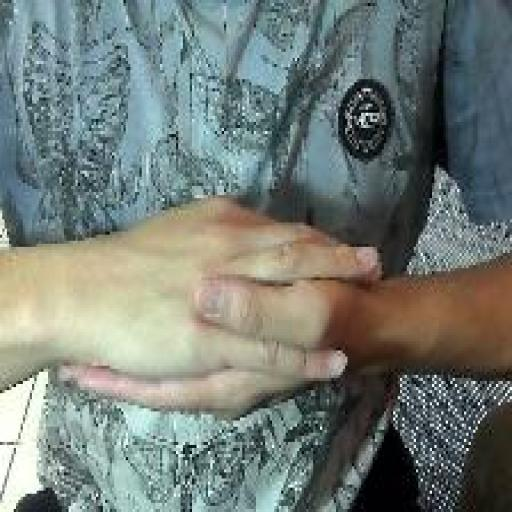Saru -monkey-: (48, 189, 391, 433)
